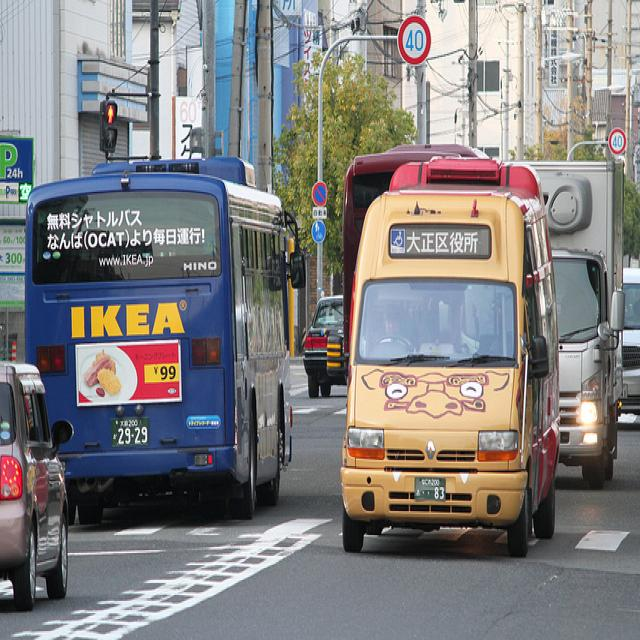Vehicle: (24, 161, 291, 521), (340, 152, 561, 560), (343, 144, 492, 376), (522, 160, 628, 485), (0, 365, 71, 604), (304, 300, 348, 392), (622, 267, 640, 413)
